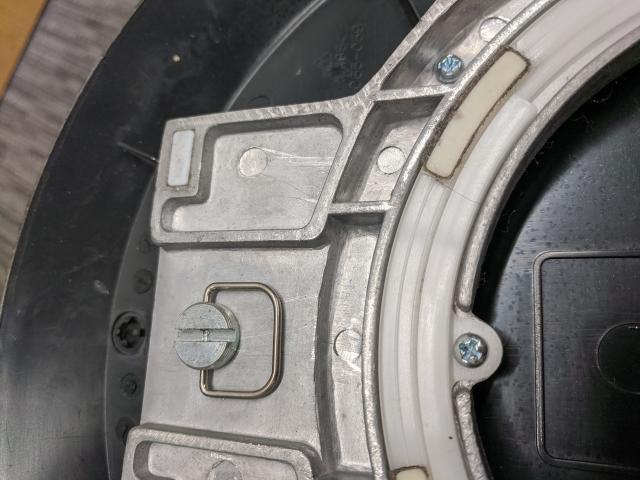CRS: (452, 331, 486, 368), (429, 54, 465, 82)
